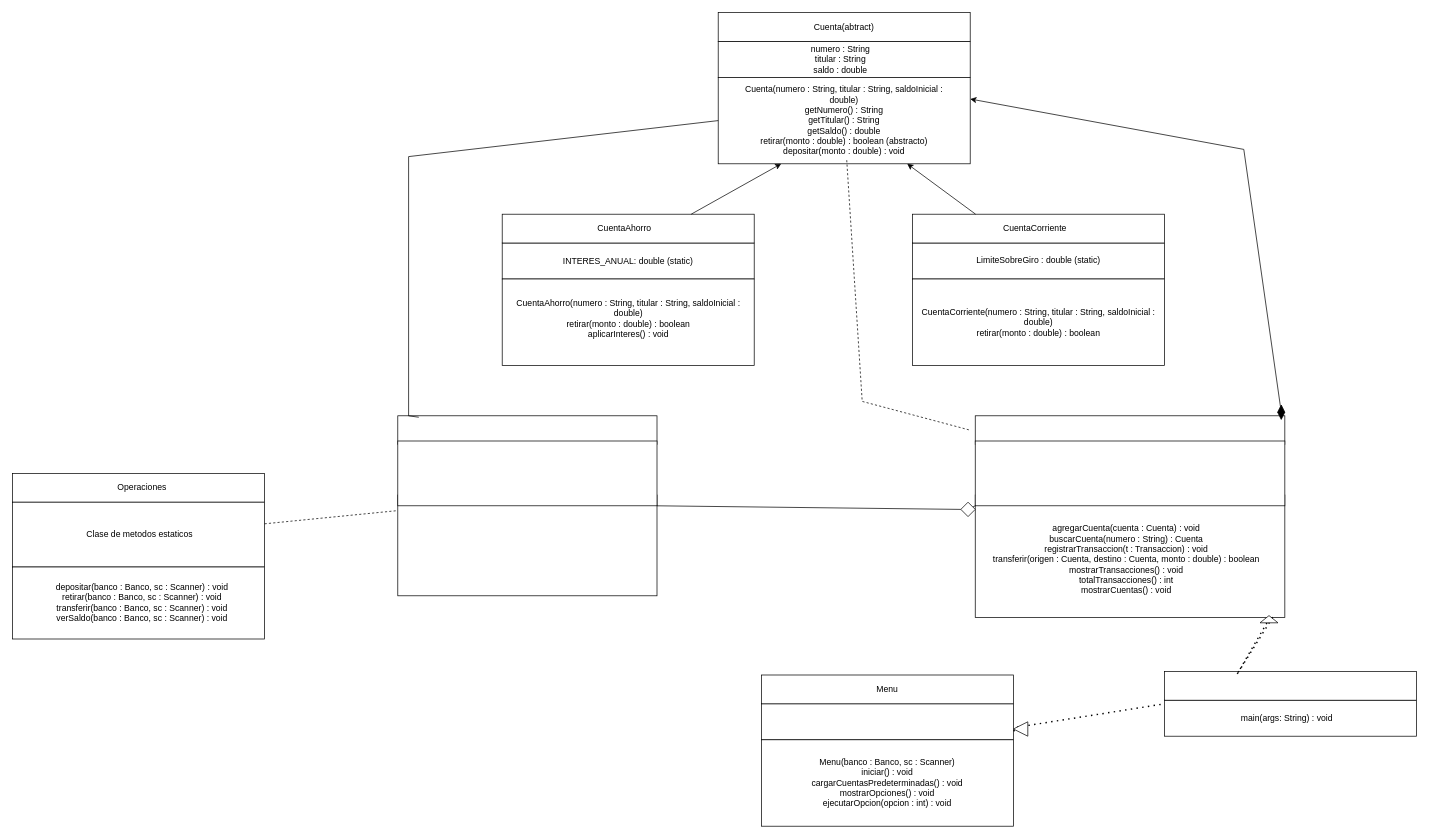
This 1429x839 diagram has some shape labels left out. Here are the shapes that lost their labels. From the top down, the centre of each, then its label:
the point at 527,430: Transaccion
the point at 1130,430: Banco
the point at 527,473: identificacion : String tipo : string monto: double fecha : Date
the point at 1130,473: cuentas : list transacciones: List
the point at 527,545: Transaccion(id : String, tipo : String, monto : double) toString() : String
the point at 1290,685: Main
the point at 887,721: banco:Banco scanner : Scanner
